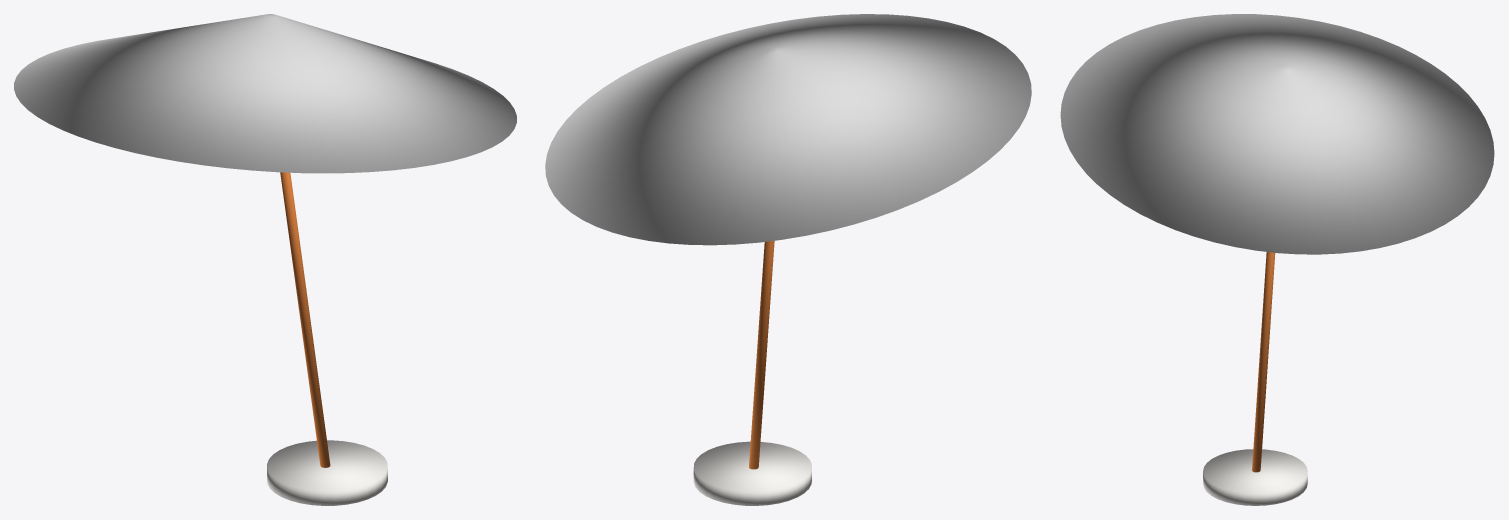
File: PoolParasol.fbx
The picture shows the model from 3 angles, left to right: view 1: azimuth 30°, elevation 25°; view 2: azimuth 150°, elevation 25°; view 3: azimuth 270°, elevation 25°; orthographic projection. The views are drawn at different scales.
Parts seen in each view (by area): view 1: parasol_canopy, parasol_base, parasol_pole; view 2: parasol_canopy, parasol_base, parasol_pole; view 3: parasol_canopy, parasol_base, parasol_pole.
Boxes of the visible parts, left/top/right/bottom form: parasol_canopy: left=14, top=14, right=516, bottom=173; parasol_base: left=267, top=440, right=387, bottom=505; parasol_pole: left=280, top=172, right=330, bottom=467; parasol_canopy: left=545, top=14, right=1031, bottom=245; parasol_base: left=693, top=441, right=811, bottom=505; parasol_pole: left=749, top=240, right=774, bottom=469; parasol_canopy: left=1060, top=14, right=1494, bottom=254; parasol_base: left=1203, top=449, right=1307, bottom=505; parasol_pole: left=1252, top=252, right=1275, bottom=472.
Bounding box in the file's own units: 2.48 × 2.53 × 2.49.
